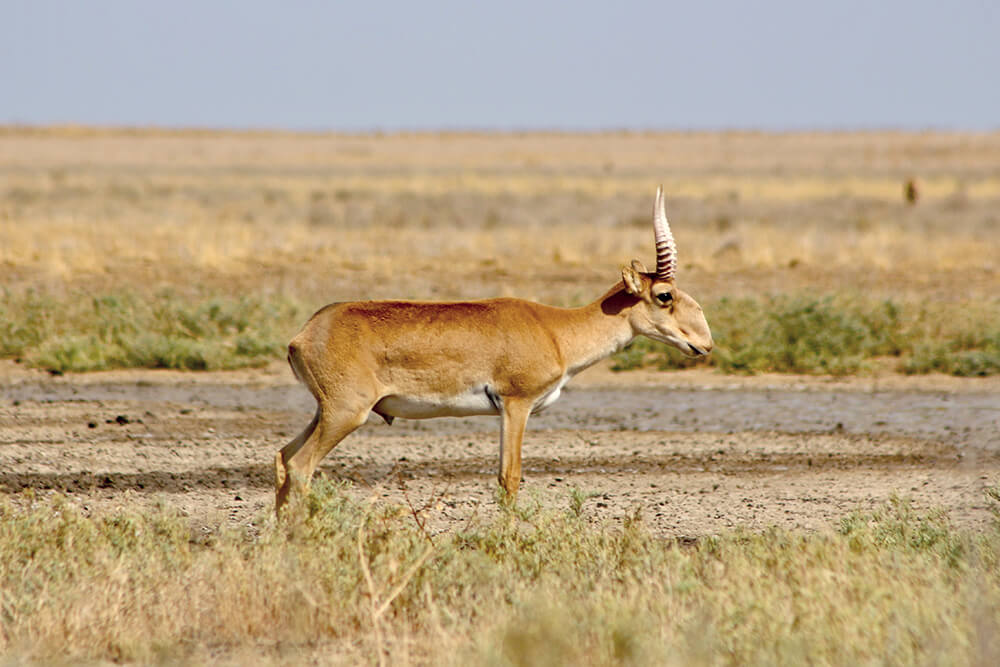saiga: (285, 180, 715, 559)
